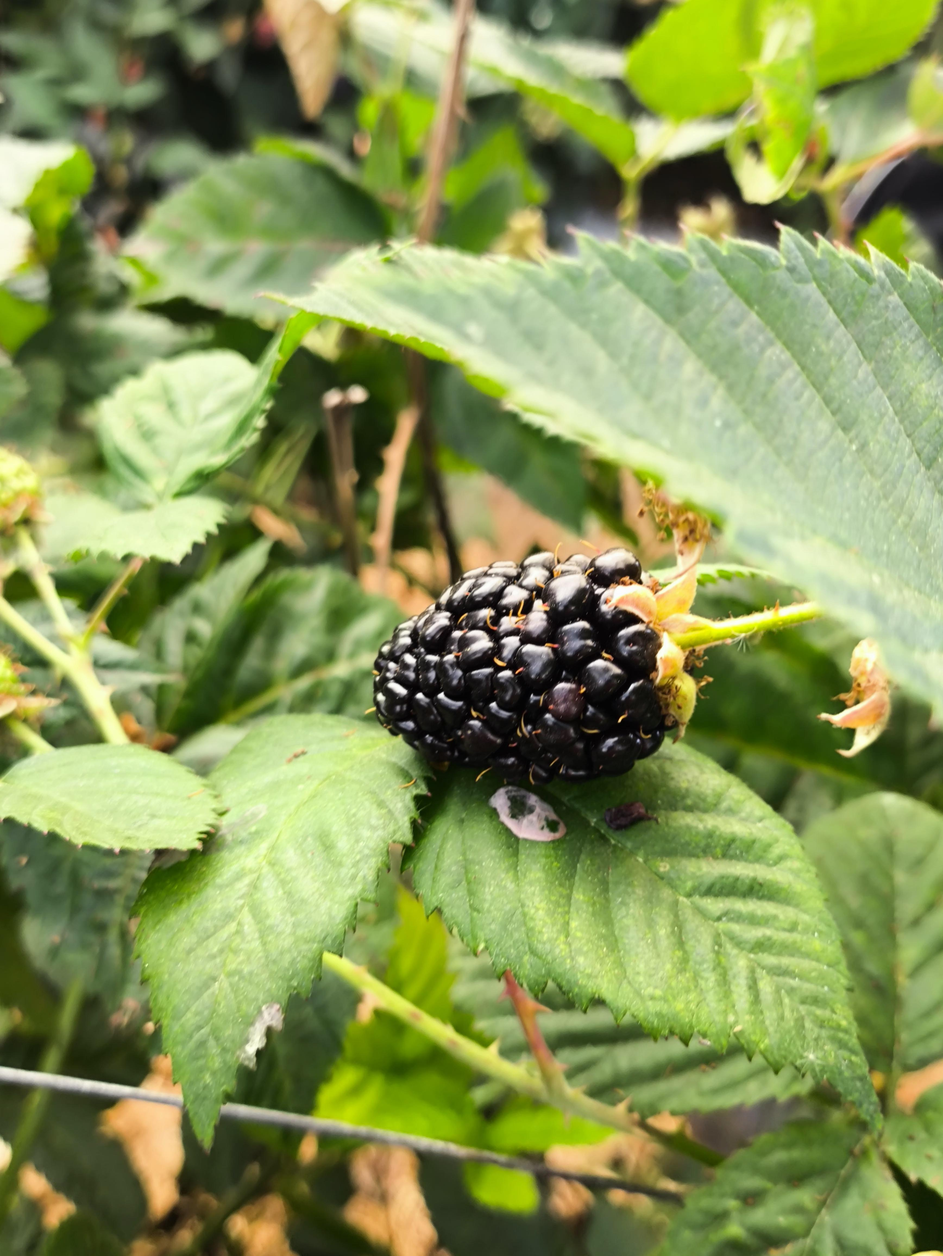maduro: (371, 554, 667, 771)
